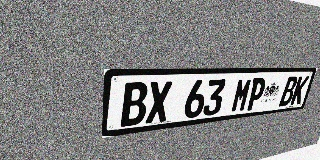3: (202, 79, 226, 116)
6: (183, 80, 208, 119)
B: (120, 82, 149, 127), (278, 76, 299, 106)
K: (290, 76, 310, 105)
M: (230, 78, 253, 113)
P: (245, 77, 267, 111)
X: (145, 81, 172, 124)
